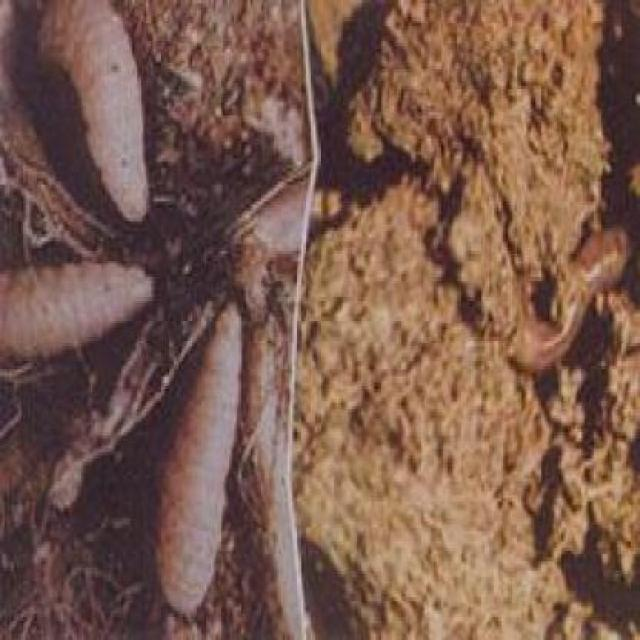whorl-maggot: (155, 302, 243, 619), (35, 0, 149, 223), (0, 259, 159, 356)
